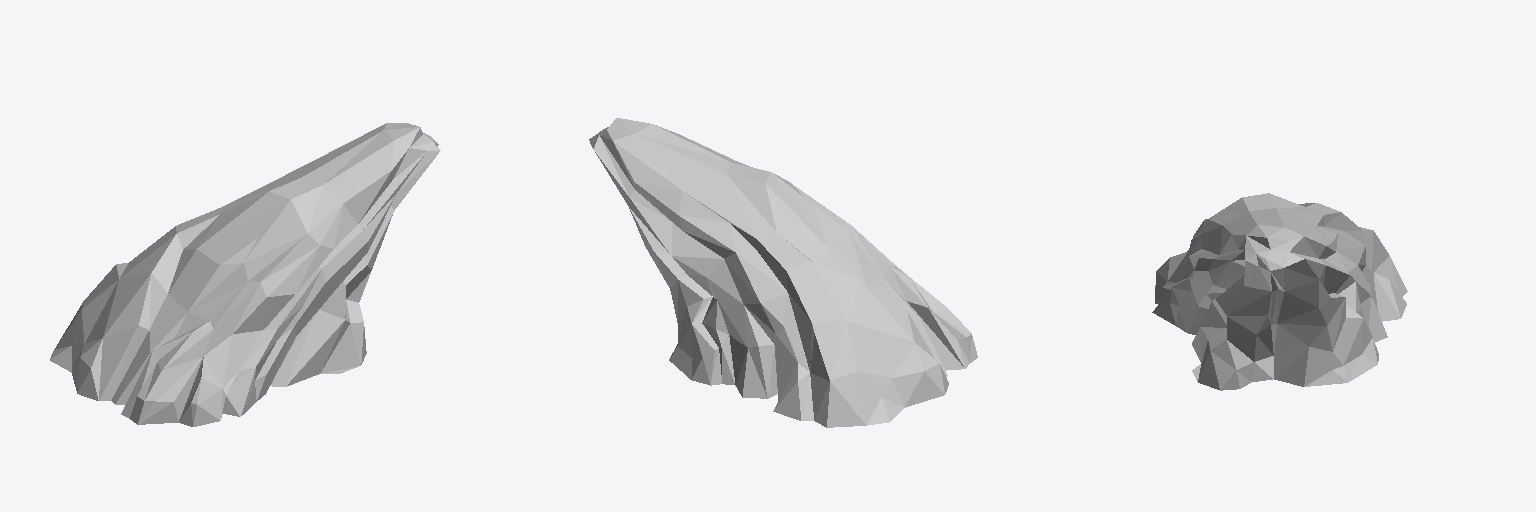
The model's file is rock_004_LOD1.obj.
3 views of the same model, side by side, from view 1: azimuth 30°, elevation 25°; view 2: azimuth 150°, elevation 25°; view 3: azimuth 270°, elevation 25° (orthographic).
Parts seen in each view (by area): view 1: rock_004_LOD1 rock_004; view 2: rock_004_LOD1 rock_004; view 3: rock_004_LOD1 rock_004.
Boxes of the visible parts, box(x1,y1,x2,y2) form: rock_004_LOD1 rock_004: box(50, 123, 440, 426); rock_004_LOD1 rock_004: box(589, 118, 977, 427); rock_004_LOD1 rock_004: box(1152, 193, 1407, 390).
Bounding box in the file's own units: 1643 × 840 × 1021.